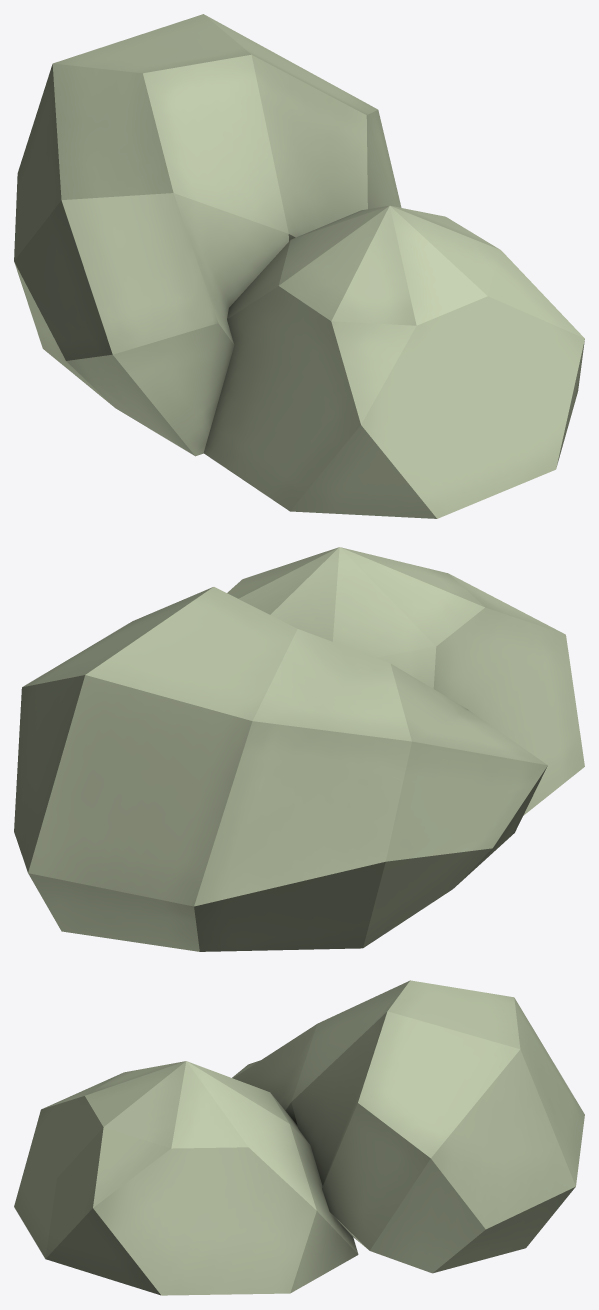
File: RockPack_01.glb
3 views of the same model, one above another, from view 1: azimuth 30°, elevation 25°; view 2: azimuth 150°, elevation 25°; view 3: azimuth 270°, elevation 25° (orthographic). The views are drawn at different scales.
Visible parts, largest first — view 1: RockPack_01; view 2: RockPack_01; view 3: RockPack_01.
Part boxes in pixels (<box>): RockPack_01: <box>14,14,584,518</box>; RockPack_01: <box>14,547,584,951</box>; RockPack_01: <box>14,980,584,1295</box>.
Bounding box in the file's own units: 1.84 × 1.19 × 2.84.
Materials: 1 (1 with a texture image).
